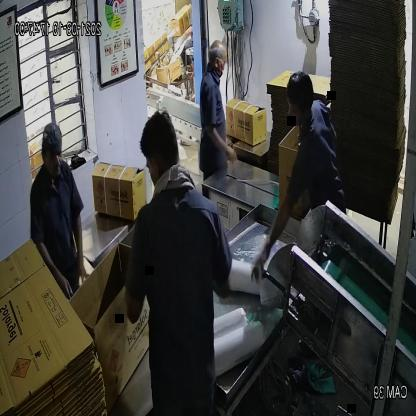no_glove: (247, 178, 311, 294), (34, 224, 72, 304), (73, 198, 94, 289), (207, 112, 240, 164)
